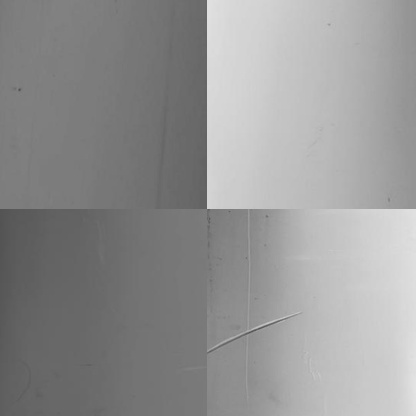sunshang: (206, 310, 299, 355)
